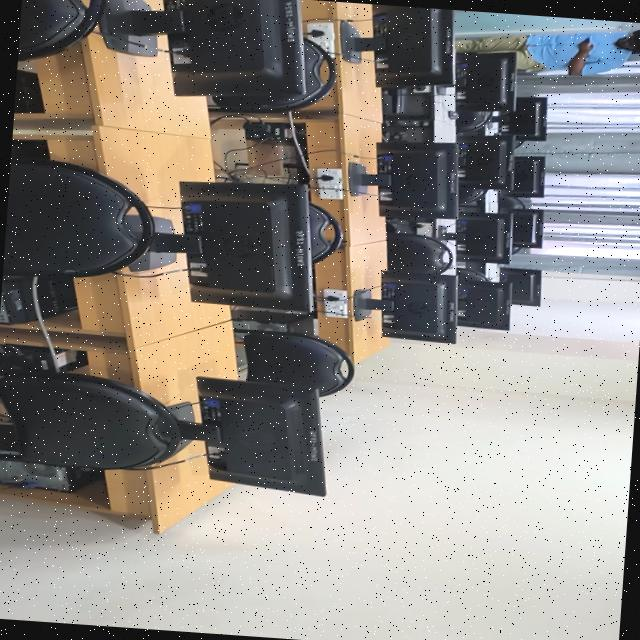Chair: (2, 156, 154, 277), (0, 368, 182, 468), (212, 36, 336, 112), (240, 329, 353, 395), (17, 0, 104, 60), (387, 232, 452, 273), (309, 201, 343, 263), (455, 109, 492, 132), (459, 186, 488, 204), (456, 266, 489, 281)
Cpu: (0, 276, 77, 323), (0, 459, 101, 491)
Monitor: (129, 181, 313, 312), (97, 0, 302, 95), (177, 376, 326, 495), (340, 3, 454, 87), (348, 141, 457, 218), (353, 271, 457, 343), (456, 51, 515, 113), (457, 135, 513, 192), (455, 212, 512, 263), (458, 279, 510, 329), (493, 96, 547, 142), (503, 155, 544, 197), (501, 267, 541, 305), (506, 208, 544, 247)
